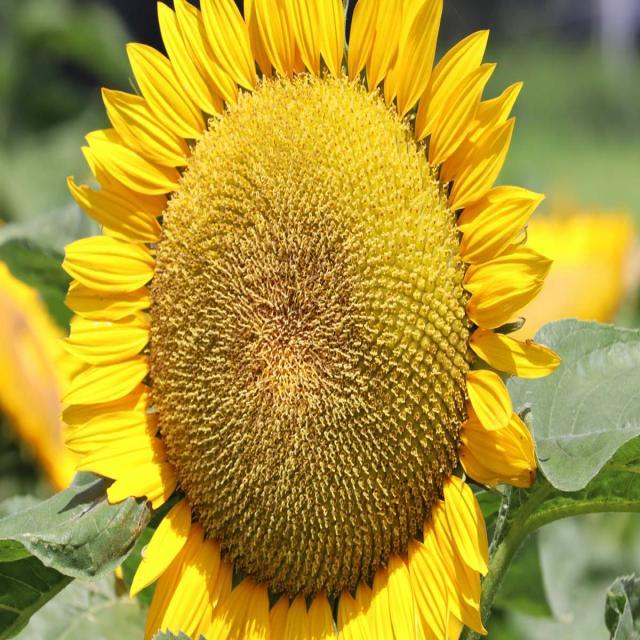sunflower: (56, 0, 562, 638), (0, 262, 81, 492), (514, 214, 630, 336)
